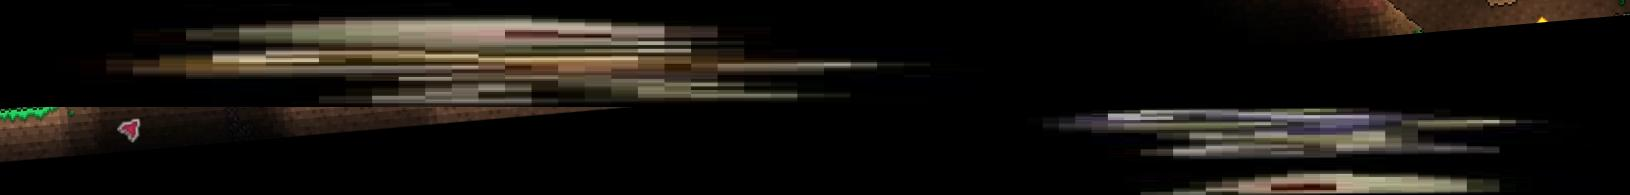zombie: (0, 0, 1010, 107), (1043, 159, 1613, 195)
